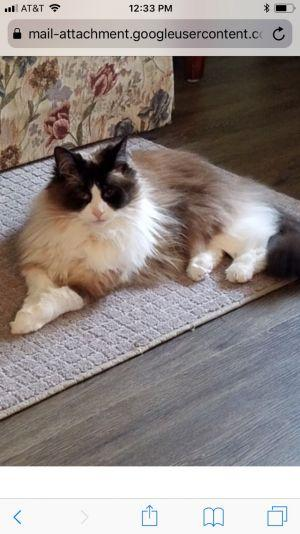ragdoll: (50, 137, 145, 235)
